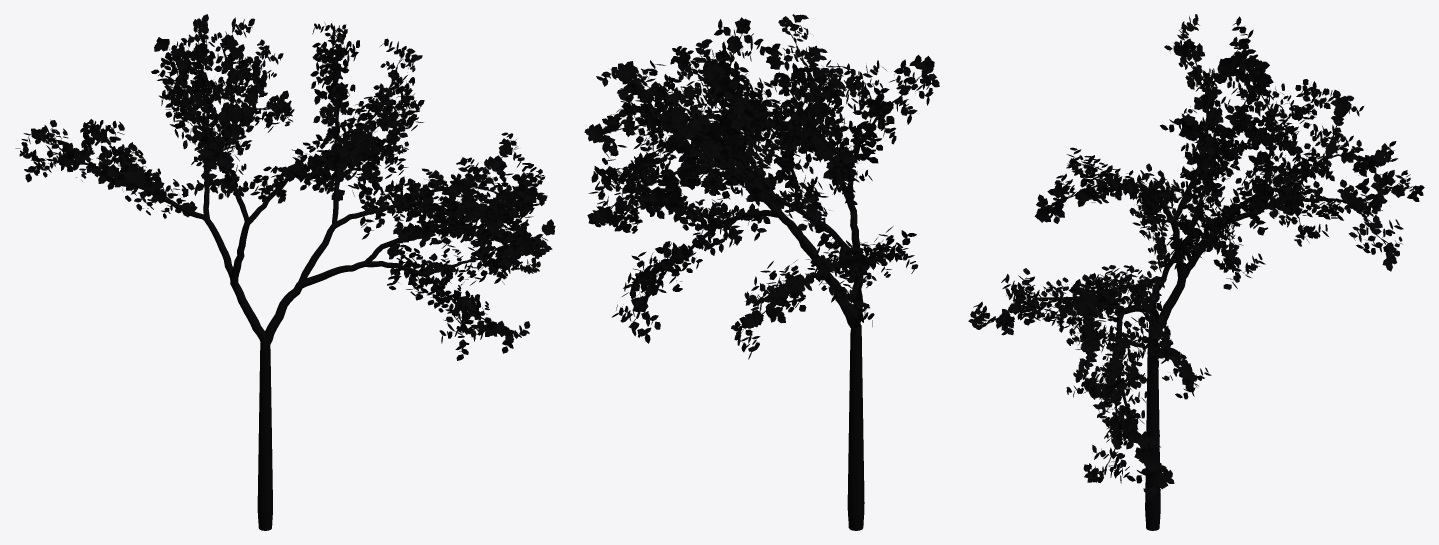
File: arbre.glb
3 renders of one model, left to right at view 1: azimuth 30°, elevation 25°; view 2: azimuth 150°, elevation 25°; view 3: azimuth 270°, elevation 25°, orthographic. The views are drawn at different scales.
Visible parts, largest first — view 1: Arbre; view 2: Arbre; view 3: Arbre.
Part boxes in pixels (x1,y1,x2,y2): Arbre: (15,14,555,530); Arbre: (584,14,939,530); Arbre: (968,14,1424,530).
Bounding box in the file's own units: 15.09 × 16.54 × 14.25.
2 materials, 2 textured.
